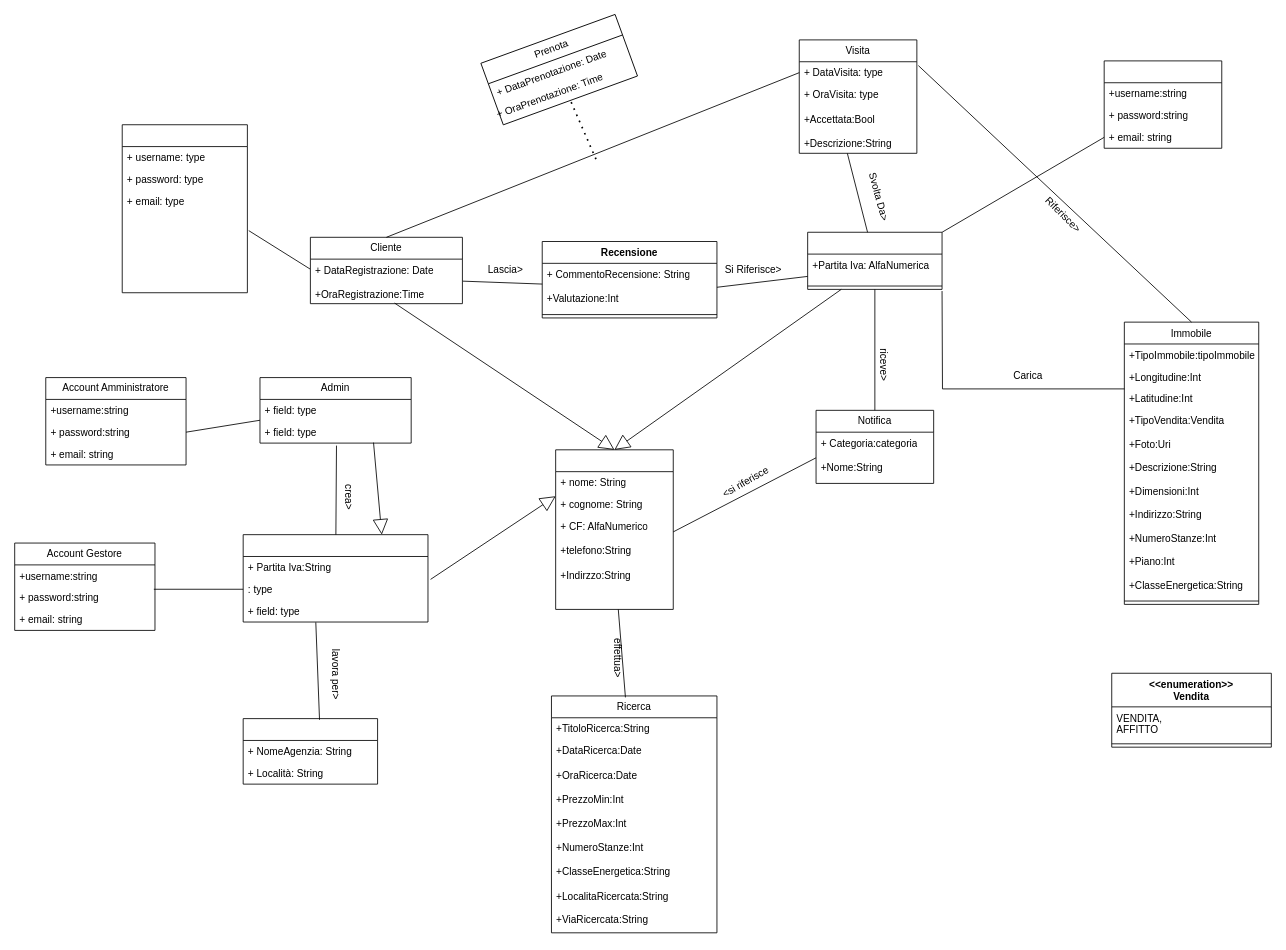
The diagram is 1286 pixels wide and 950 high, and some of its shapes have lost their labels. The shapes that lost their labels are listed below. From the top down, each one's box as (x1, y1, x2, y2) in pixels, then its label:
(1103, 60, 1222, 148): Account Aziendale
(121, 124, 247, 293): Account Semplice
(807, 231, 942, 289): Agente
(555, 449, 673, 609): Utente
(242, 534, 428, 622): Gestore Agenzia Immobiliare
(242, 718, 378, 784): Agenzia Appartenente
